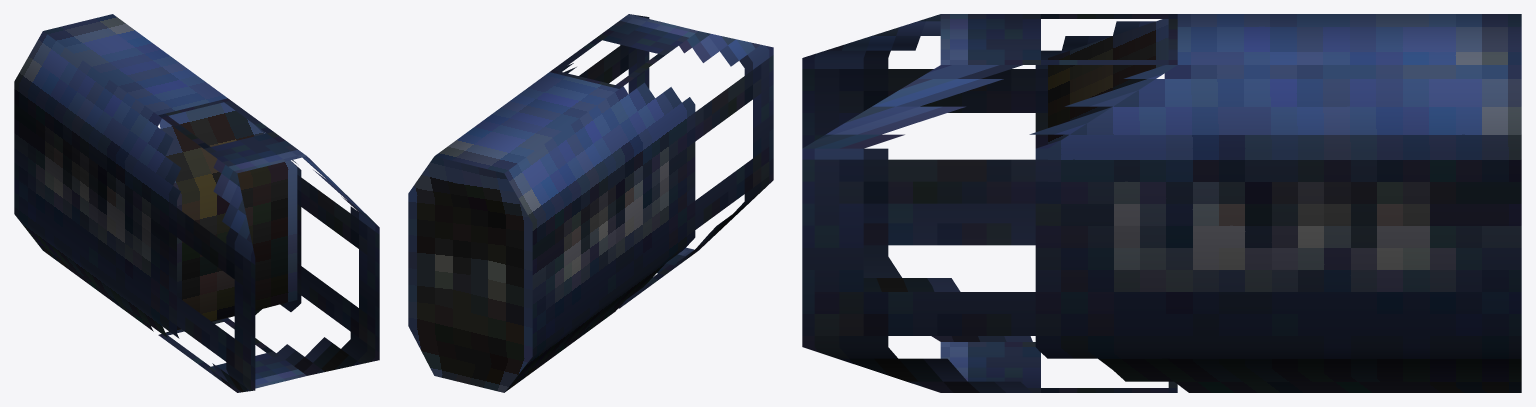
File: x1_weapon.glb
The picture shows the model from 3 angles, left to right: view 1: azimuth 30°, elevation 25°; view 2: azimuth 150°, elevation 25°; view 3: azimuth 270°, elevation 25°; orthographic projection. The views are drawn at different scales.
Visible parts, largest first — view 1: X1Alpha_weapon; view 2: X1Alpha_weapon; view 3: X1Alpha_weapon.
Part boxes in pixels (x1,y1,x2,y2): X1Alpha_weapon: (14,14,379,392); X1Alpha_weapon: (408,14,773,392); X1Alpha_weapon: (802,14,1521,392).
Size of the model in its own units: 0.0938 by 0.1582 by 0.3145.
Materials: 2 (2 with a texture image).
